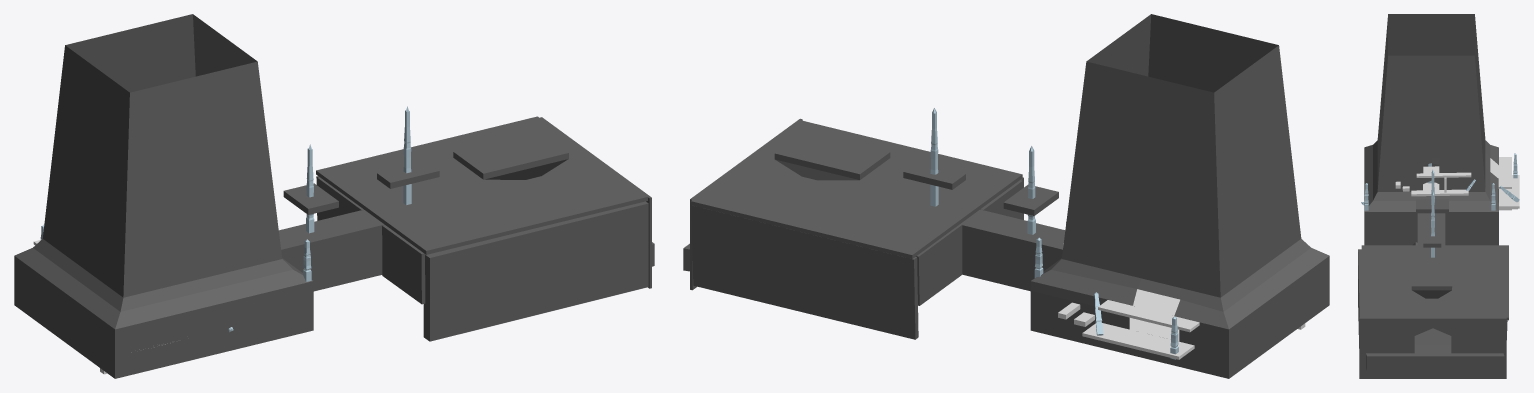
File: Escape_room.glb
The picture shows the model from 3 angles, left to right: view 1: azimuth 30°, elevation 25°; view 2: azimuth 150°, elevation 25°; view 3: azimuth 270°, elevation 25°; orthographic projection. The views are drawn at different scales.
Parts seen in each view (by area): view 1: Cube, Cube.019; view 2: Cube, Cube.011, Cube.019; view 3: Cube, Cube.011, Cube.014, Cube.019.
Part boxes in pixels (<box>): Cube: <box>14,14,654,378</box>; Cube.019: <box>403,106,411,204</box>; Cube: <box>683,14,1329,378</box>; Cube.011: <box>1058,289,1199,359</box>; Cube.019: <box>930,108,938,206</box>; Cube: <box>1358,14,1508,378</box>; Cube.011: <box>1490,157,1519,210</box>; Cube.014: <box>1395,166,1471,196</box>; Cube.019: <box>1431,192,1434,257</box>.
Size of the model in its own units: 202 by 108 by 78.25.
